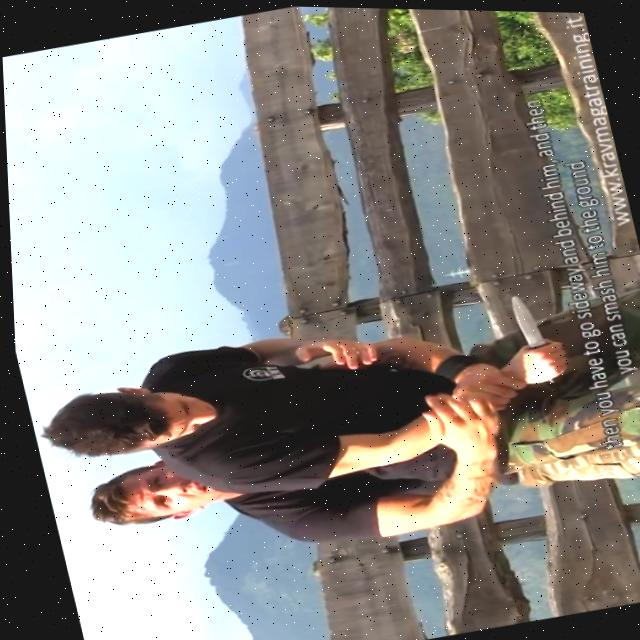knife: (495, 283, 563, 350)
